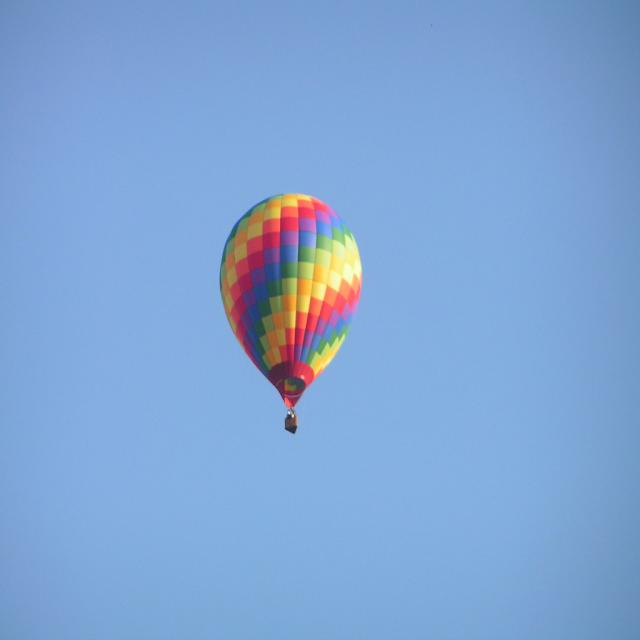balloon: (219, 192, 364, 434)
